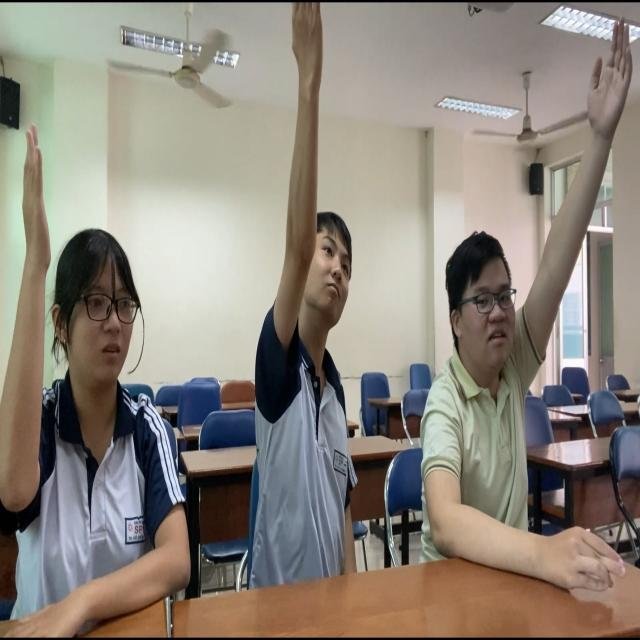raise_hand: (436, 14, 638, 600), (1, 129, 196, 640), (234, 1, 391, 591)
